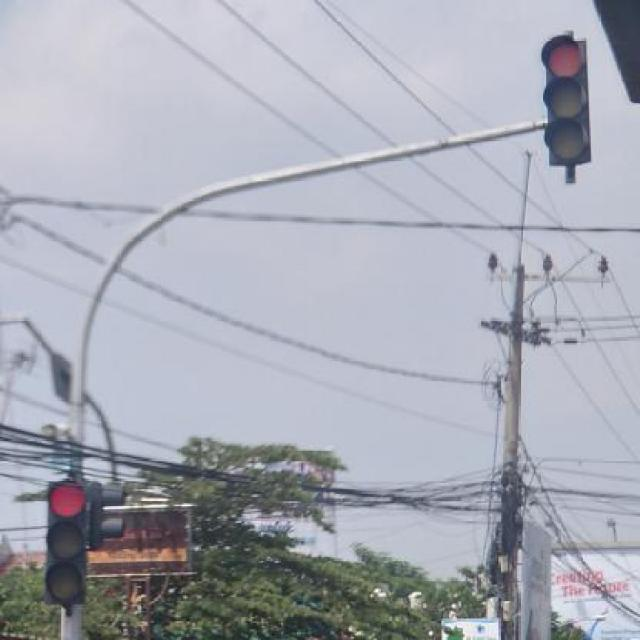traffic light: (47, 477, 96, 606), (540, 38, 587, 171)
